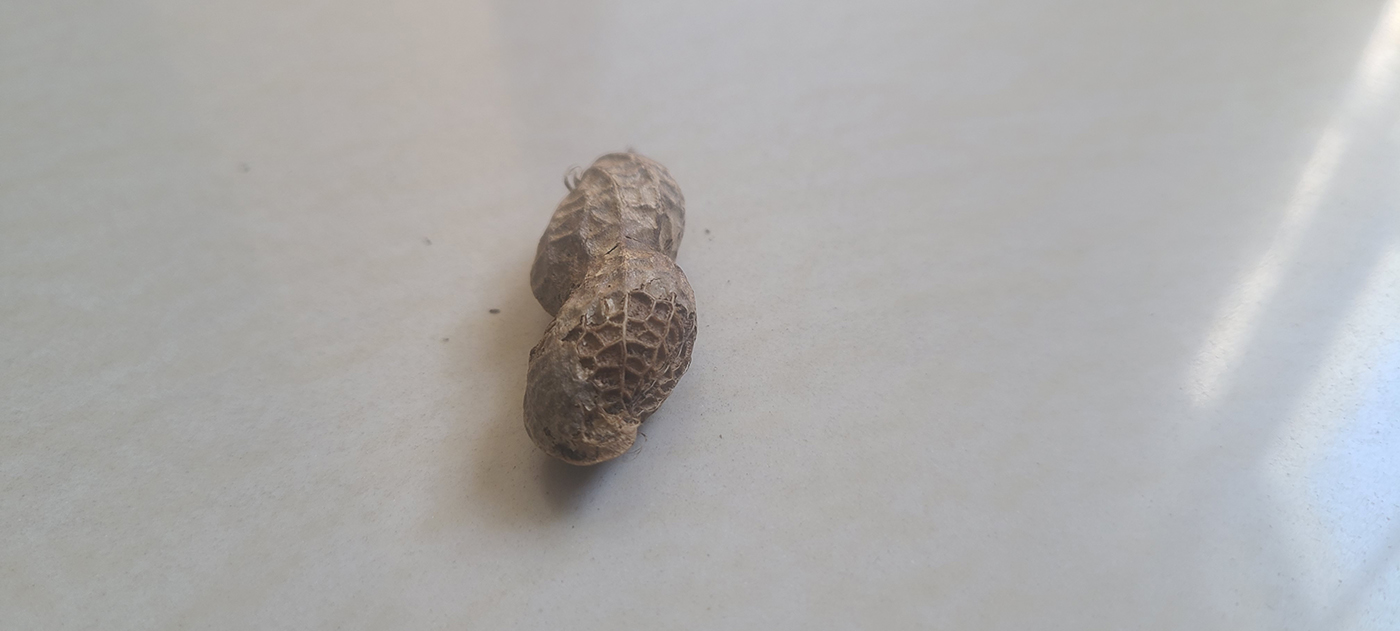l: (519, 149, 704, 471)
